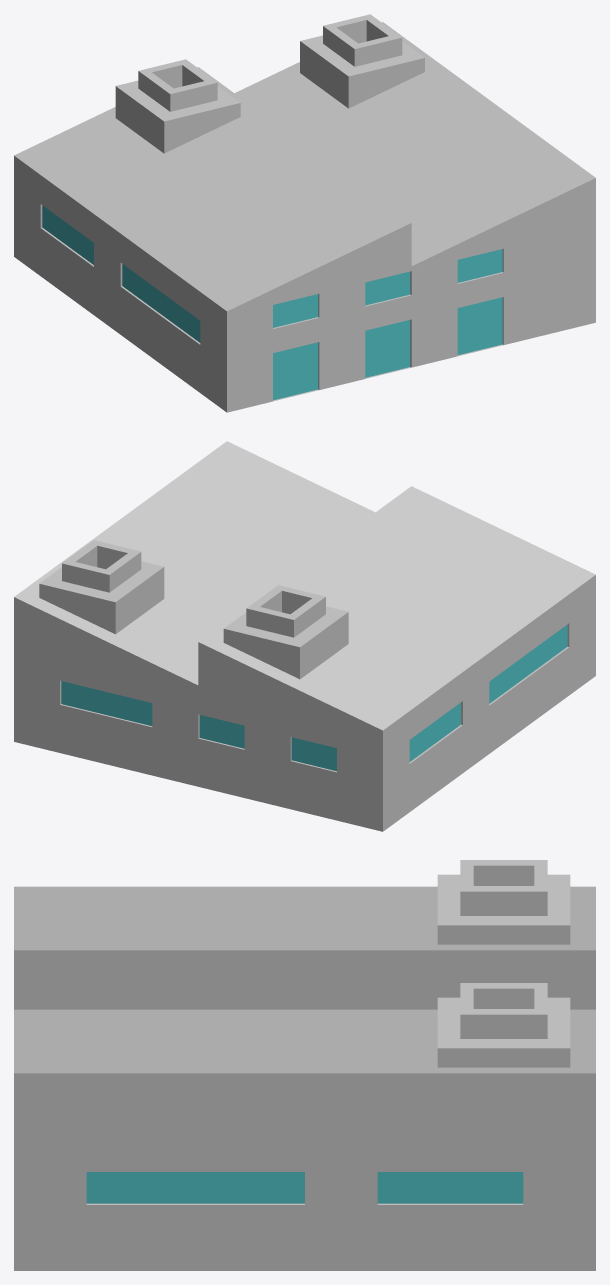
Rendered from BudynekNr4.fbx.
The picture shows the model from 3 angles, top to bottom: view 1: azimuth 30°, elevation 25°; view 2: azimuth 150°, elevation 25°; view 3: azimuth 270°, elevation 25°; orthographic projection. The views are drawn at different scales.
Parts seen in each view (by area): view 1: BudynekNr4; view 2: BudynekNr4; view 3: BudynekNr4.
Part boxes in pixels (x1=…): BudynekNr4: x1=14, y1=14, x2=595, y2=412; BudynekNr4: x1=14, y1=441, x2=595, y2=831; BudynekNr4: x1=14, y1=860, x2=595, y2=1270.
Size of the model in its own units: 400 by 179 by 400.
